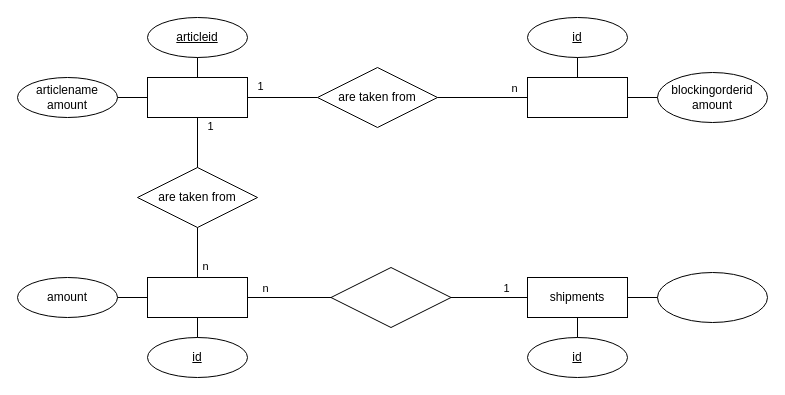
This 785x395 diagram has some shape labels left out. Here are the shapes that lost their labels. From the top down, the centre of each, then its label:
At point (197, 97): "articlestock".
At point (577, 97): "blockedarticles".
At point (197, 297): "shippedarticles".
At point (390, 297): "contain".
At point (712, 297): "orderid shipmenttime hasarrived".
